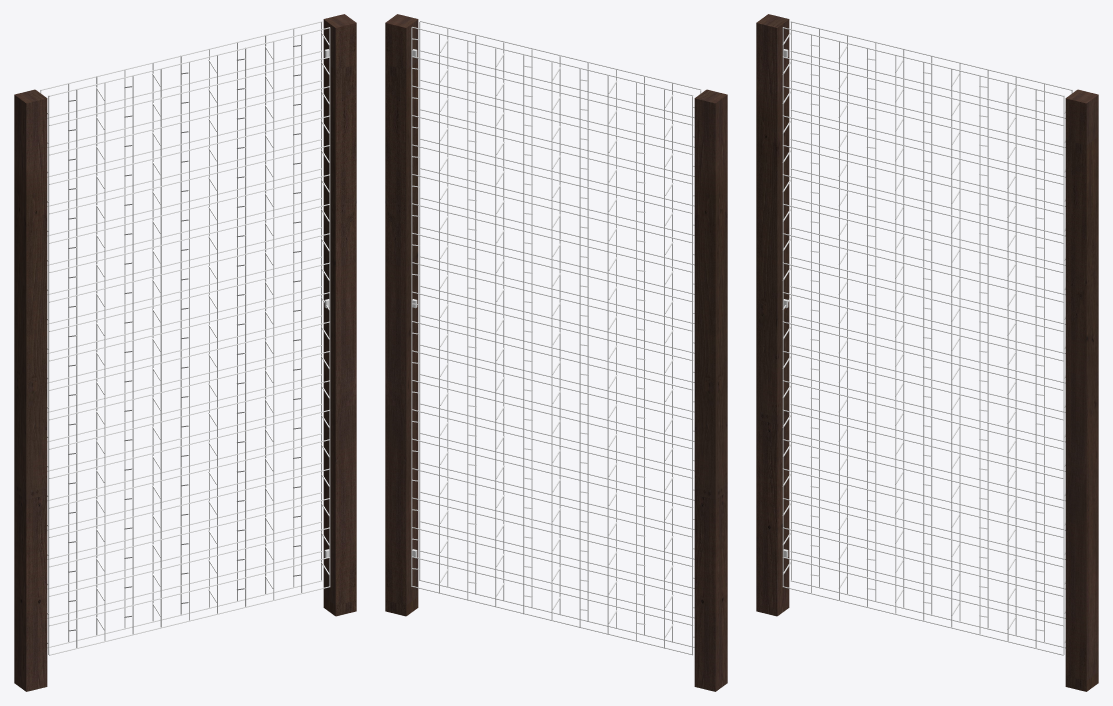
The model's file is toremeshfence_w1100_green-darkpine.fbx.
3 renders of one model, left to right at view 1: azimuth 30°, elevation 25°; view 2: azimuth 150°, elevation 25°; view 3: azimuth 330°, elevation 25°, orthographic.
Visible parts, largest first — view 1: トレメッシュ1100.016; view 2: トレメッシュ1100.016; view 3: トレメッシュ1100.016.
Boxes of the visible parts, left/top/right/bottom form: トレメッシュ1100.016: left=14, top=14, right=356, bottom=691; トレメッシュ1100.016: left=385, top=14, right=727, bottom=691; トレメッシュ1100.016: left=756, top=14, right=1098, bottom=691.
Bounding box in the file's own units: 117 × 200 × 7.5.
3 materials, 3 textured.
